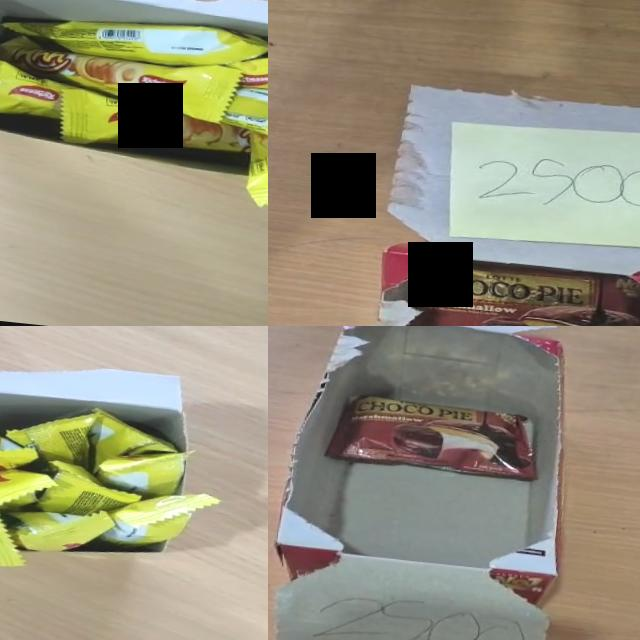Ahh: (0, 30, 243, 124), (0, 4, 268, 77), (56, 86, 254, 162), (99, 482, 224, 556), (86, 407, 182, 481), (34, 458, 144, 522), (0, 500, 118, 558), (94, 441, 195, 502), (1, 404, 96, 468), (0, 53, 85, 123), (215, 81, 268, 152), (0, 464, 58, 521), (0, 473, 34, 568), (221, 42, 268, 106), (241, 129, 268, 218), (0, 424, 42, 478)
Chocopie: (324, 392, 542, 482), (398, 252, 640, 326)
